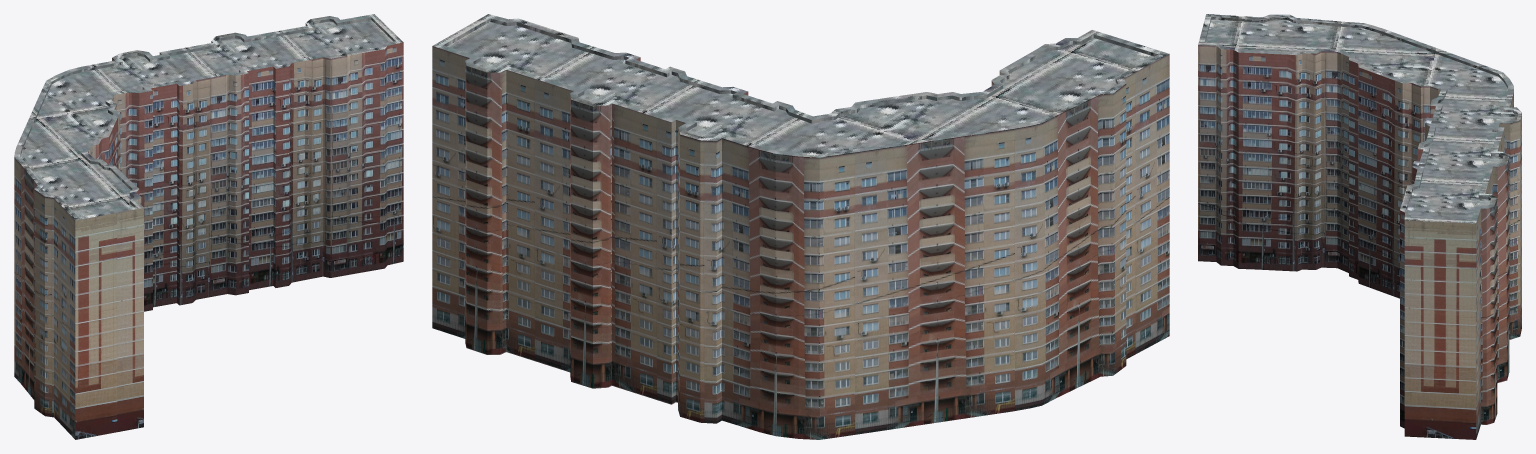
The model's file is cornerBuilding.glb.
3 renders of one model, left to right at view 1: azimuth 30°, elevation 25°; view 2: azimuth 150°, elevation 25°; view 3: azimuth 270°, elevation 25°, orthographic. The views are drawn at different scales.
Parts seen in each view (by area): view 1: Geode; view 2: Geode; view 3: Geode.
Boxes of the visible parts, <box> form: Geode: <box>14,14,403,439</box>; Geode: <box>432,14,1169,439</box>; Geode: <box>1198,14,1521,439</box>.
Bounding box in the file's own units: 175 × 84 × 114.
5 materials, 4 textured.
